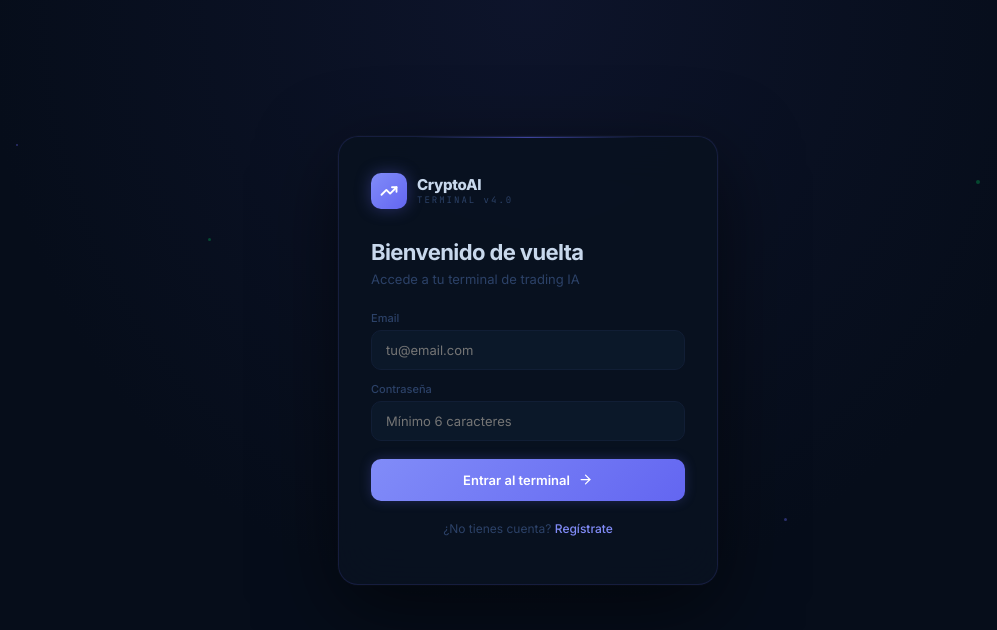
Test: Login › shows error for short password
The image size is (997, 630).
Step 1. Type "user@test.com" into the field with placeholder "tu@email.com" → [528, 350], box left=371, top=330, right=685, bottom=370
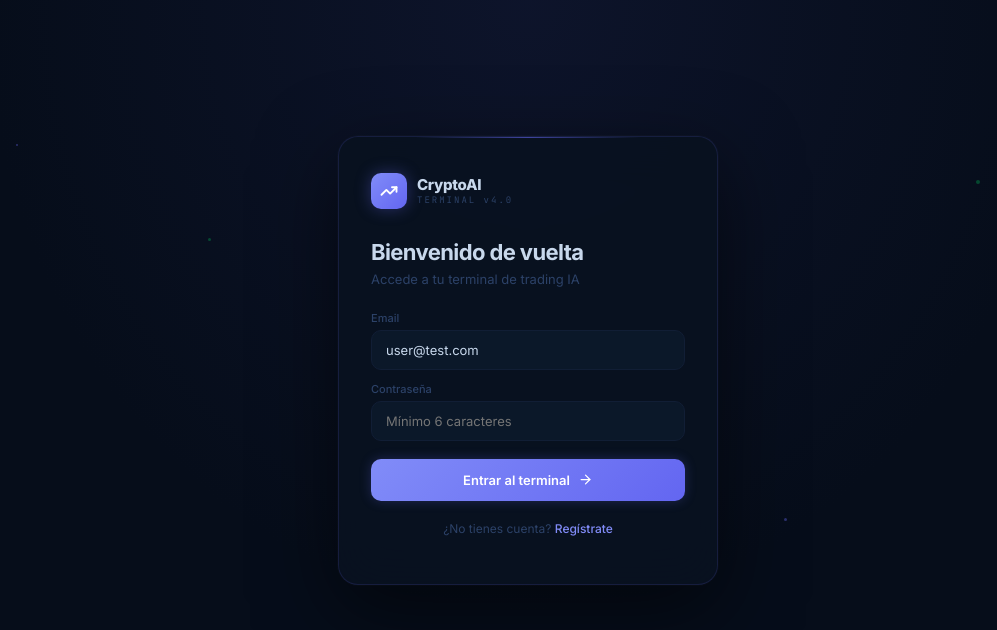
Step 2. Type "123" into the password field with placeholder "Mínimo 6 caracteres" → [528, 420], box left=371, top=400, right=685, bottom=440
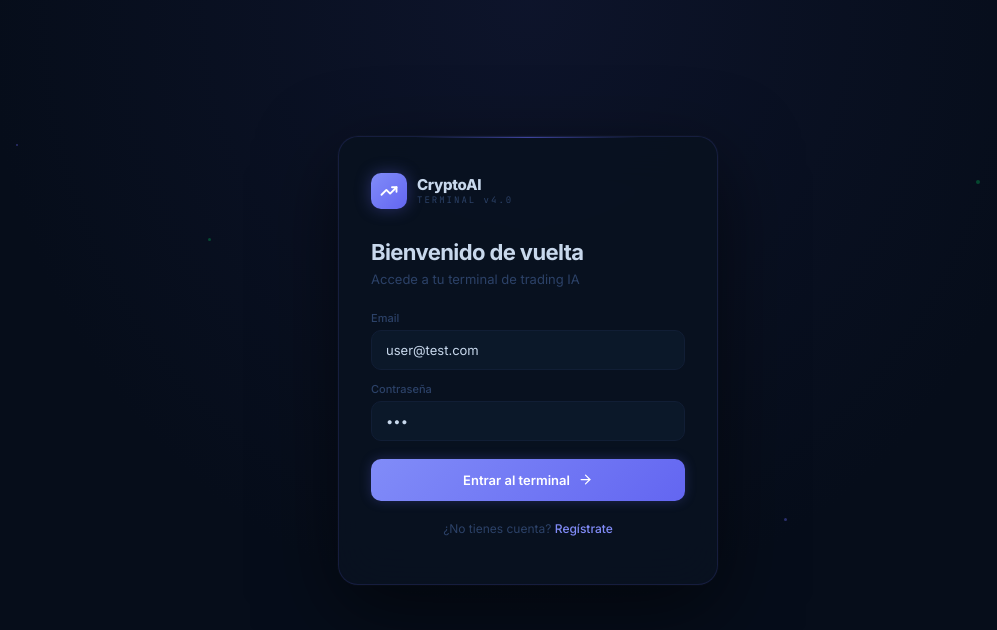
Step 3. Click the button "Entrar al terminal" → [528, 480], box left=371, top=458, right=685, bottom=500
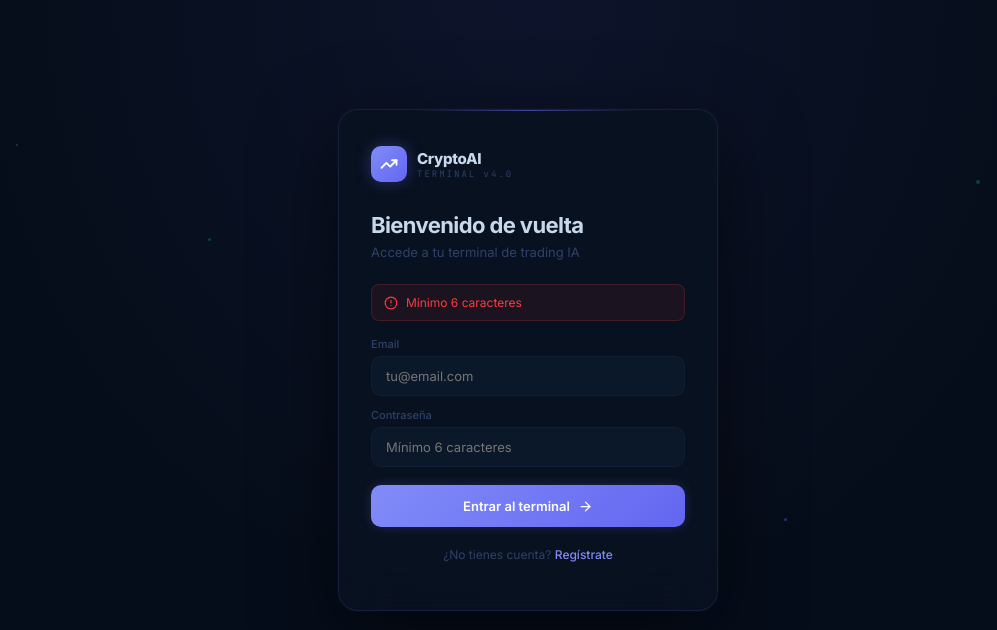
Now the text "Mínimo 6 caracteres" is shown, box left=371, top=284, right=685, bottom=321
